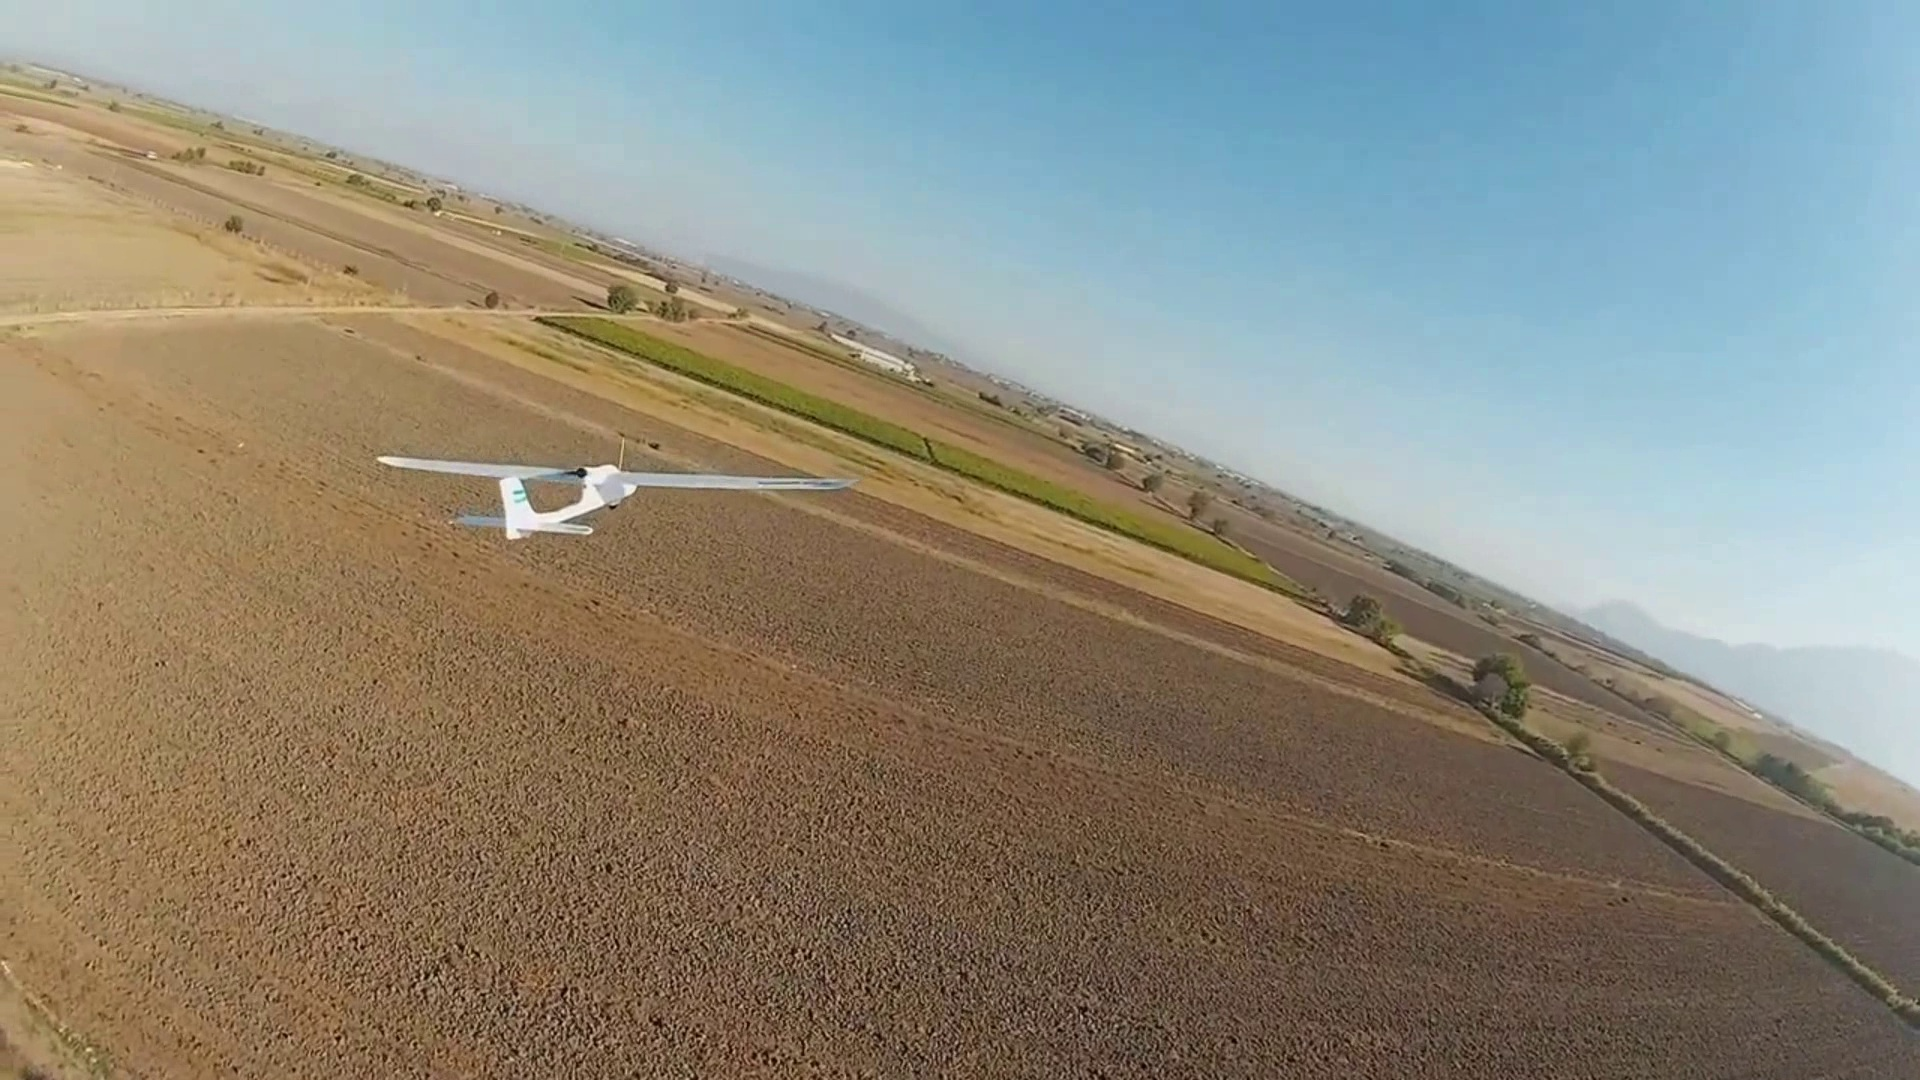airplane: (375, 447, 847, 541)
